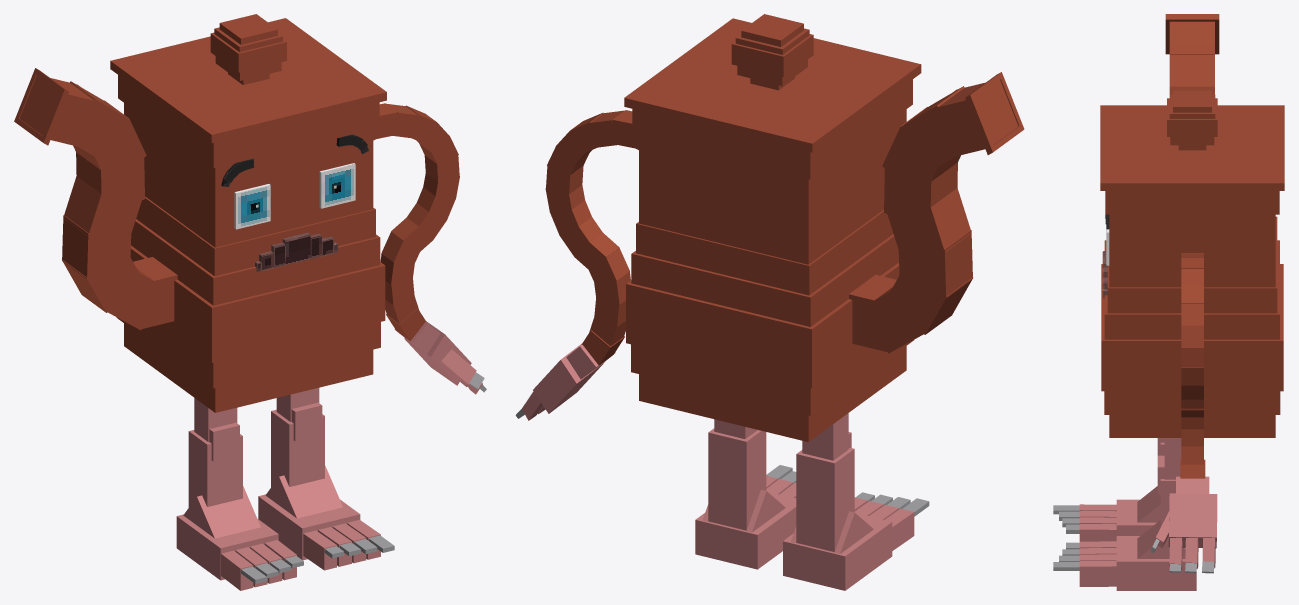
The model's file is tatataSahur.fbx.
3 views of the same model, side by side, from view 1: azimuth 30°, elevation 25°; view 2: azimuth 150°, elevation 25°; view 3: azimuth 270°, elevation 25° (orthographic). The views are drawn at different scales.
Visible parts, largest first — view 1: tatataSahur; view 2: tatataSahur; view 3: tatataSahur.
Boxes of the visible parts, box(x1,y1,x2,y2) form: tatataSahur: box(14, 14, 486, 590); tatataSahur: box(515, 14, 1024, 590); tatataSahur: box(1053, 14, 1284, 590).
Bounding box in the file's own units: 567 × 612 × 278.
